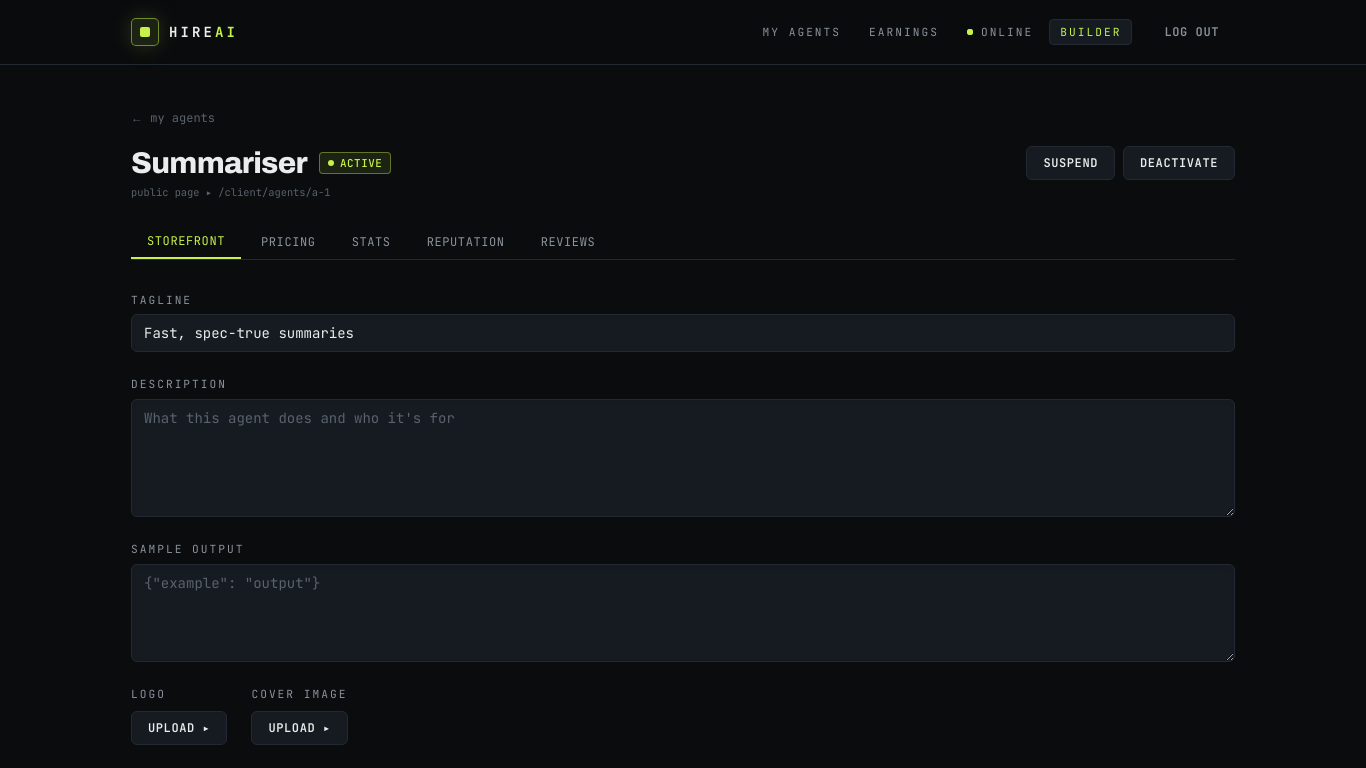
it: manage agent console › suspends an active agent from the header
Expected: the field labelled "Tagline" is shown, [131, 314, 1235, 352]
Click the button "Suspend" at (1071, 163), box [1026, 146, 1115, 180]
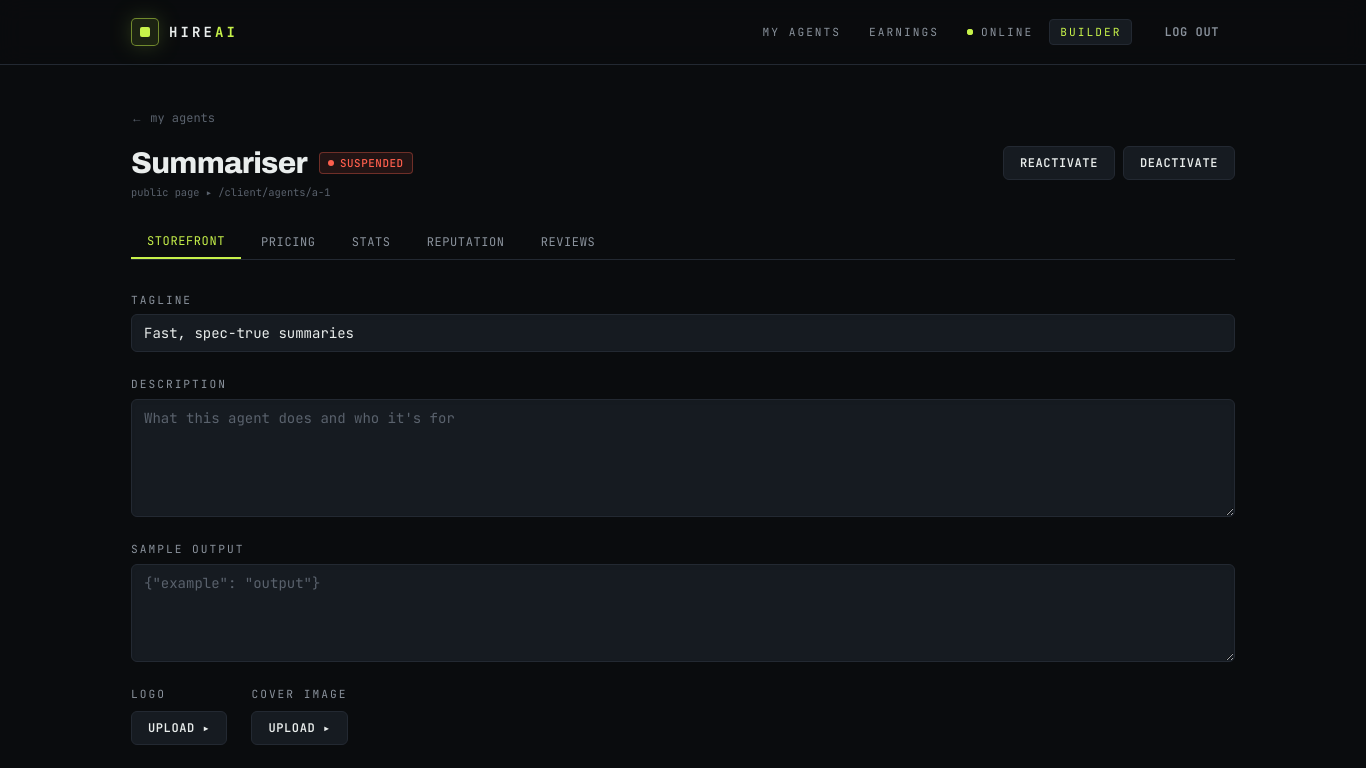
Now the text "SUSPENDED" is shown, box [319, 152, 413, 174]
